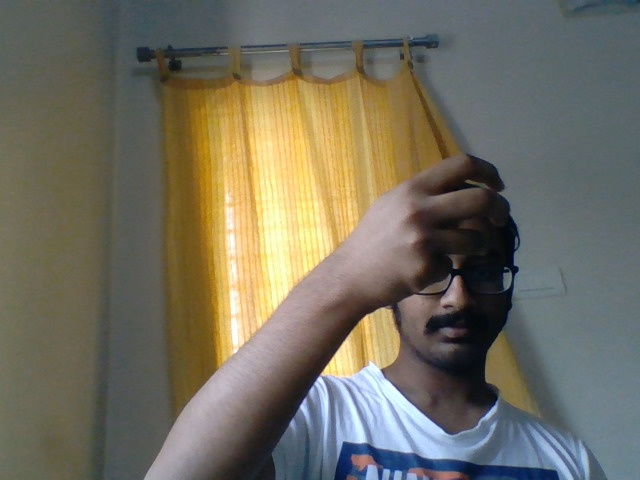thanks: (311, 127, 531, 333)
